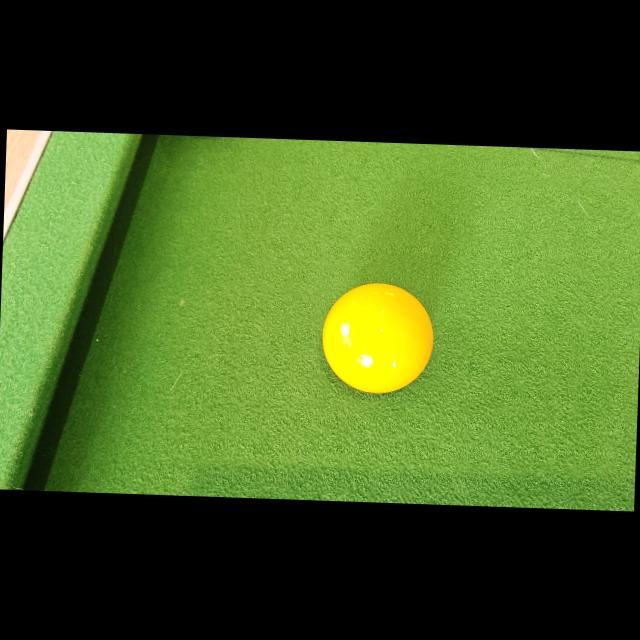Ball: (321, 280, 436, 394)
